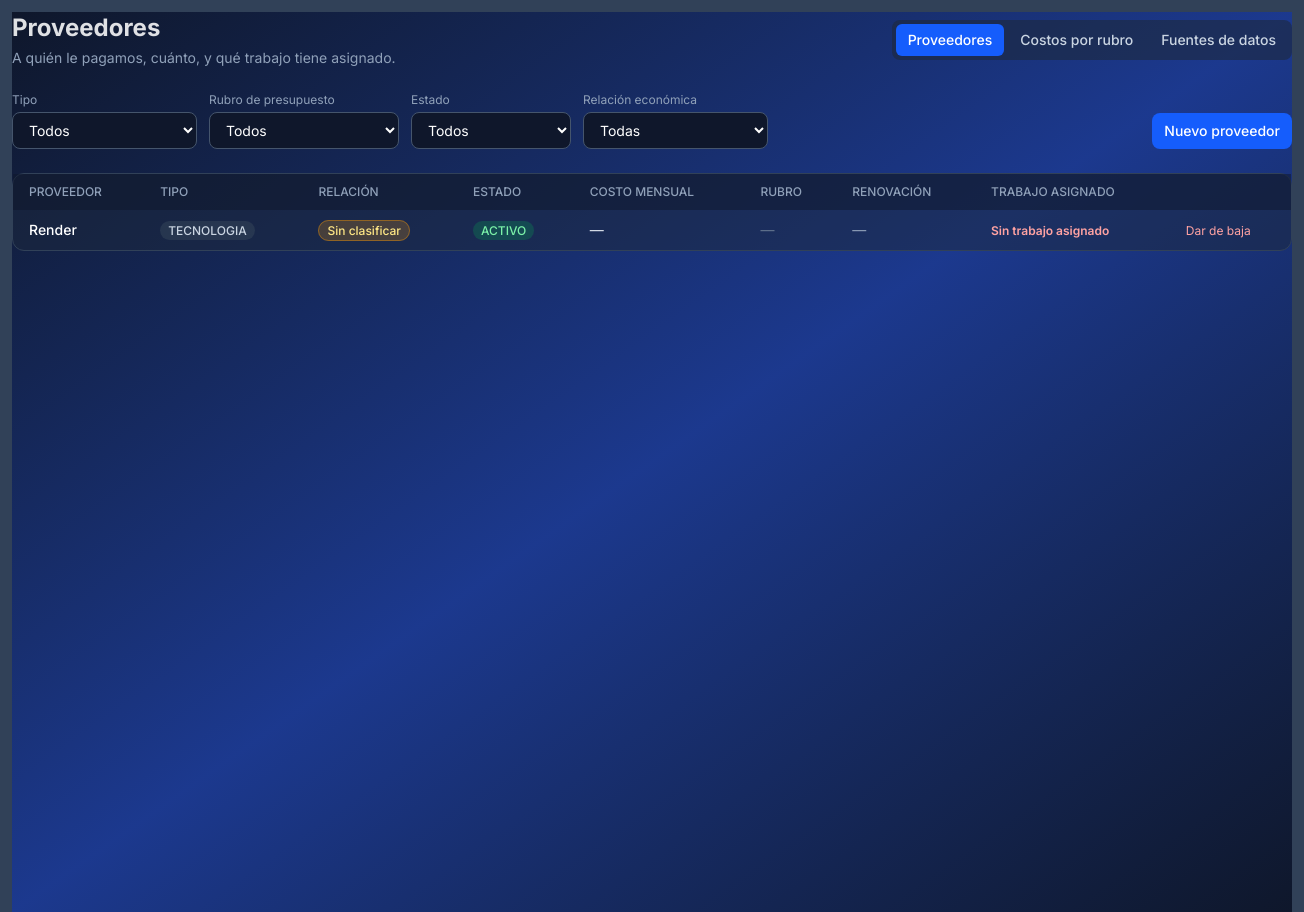
filtros de proveedores › el estado vacío con filtro dice que es el filtro, no que no haya proveedores
Expected: the button "Render" is shown, [29, 220, 77, 240]
Select "ART" in the dropdown labelled "Tipo" at coordinates (104, 130), box [12, 112, 197, 149]
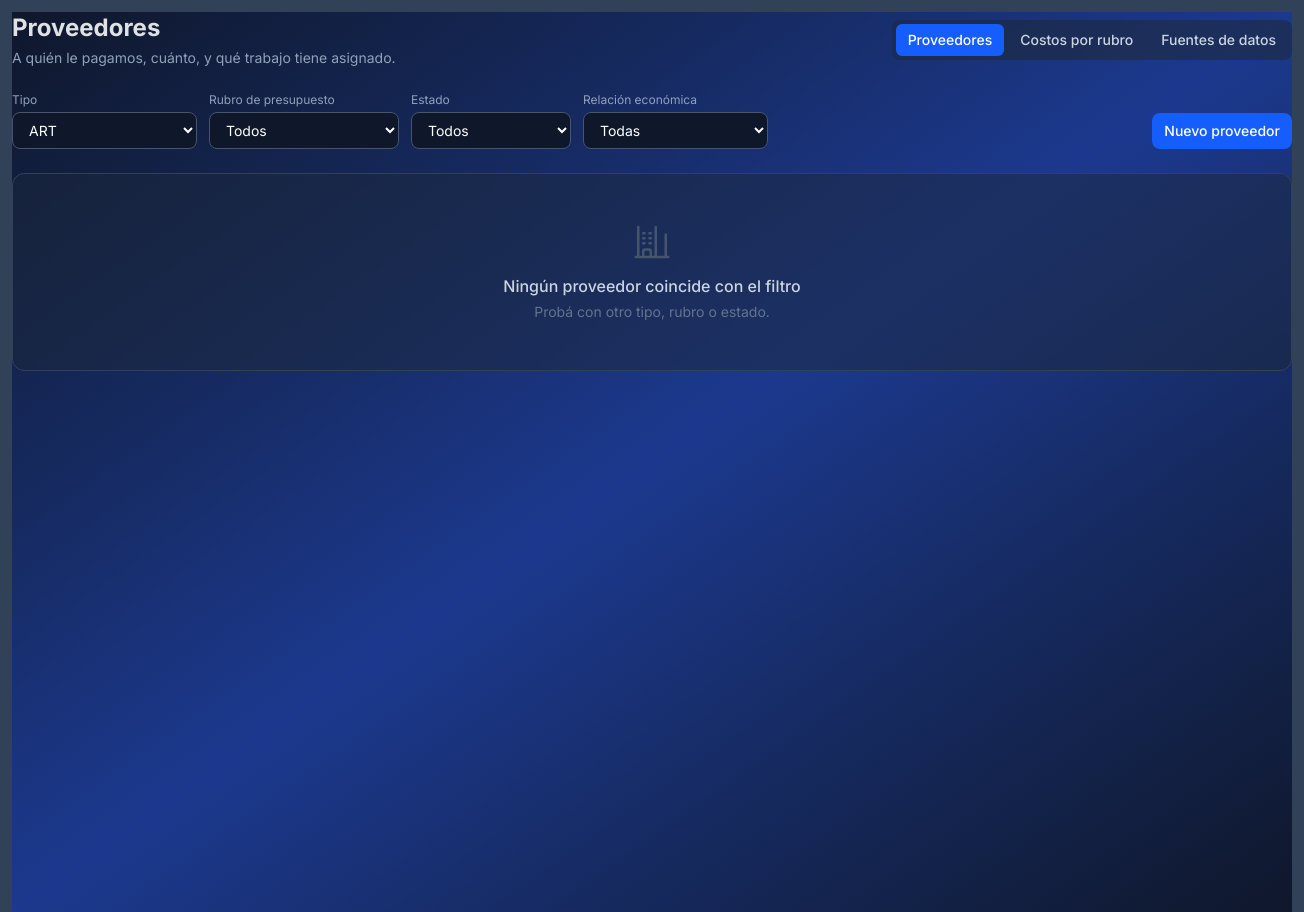
Expected: the text "Ningún proveedor coincide con el filtro" is shown, [503, 276, 801, 296]
